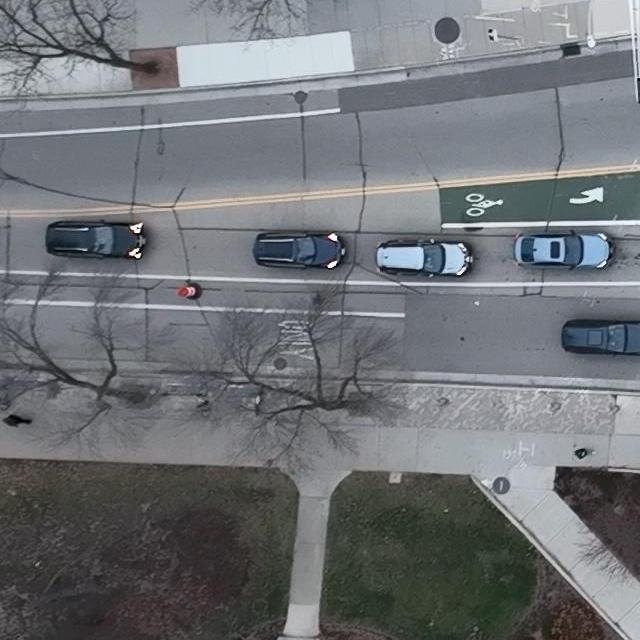car: (512, 228, 616, 273), (251, 229, 348, 272), (45, 218, 146, 259), (375, 236, 474, 277), (562, 318, 640, 358)
